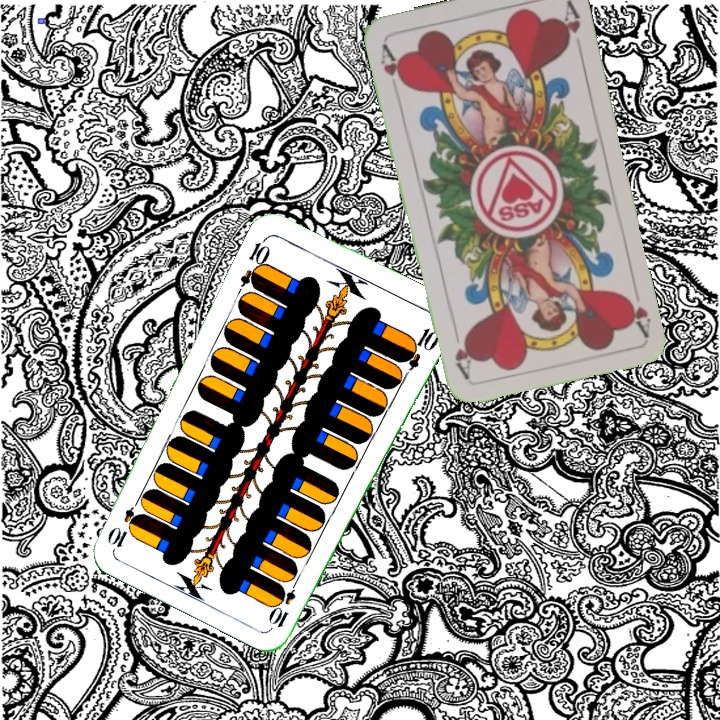E10: (236, 233, 273, 291), (267, 573, 302, 631)
HA: (619, 280, 654, 339), (376, 39, 409, 91)
